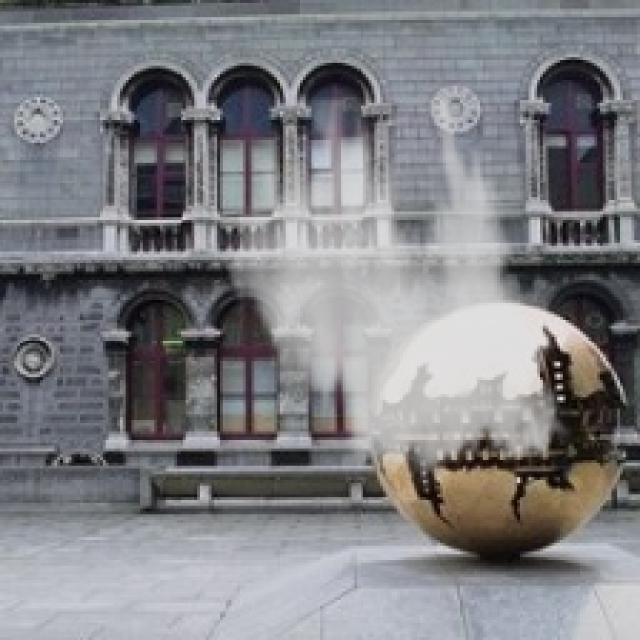smoke: (217, 97, 577, 492)
